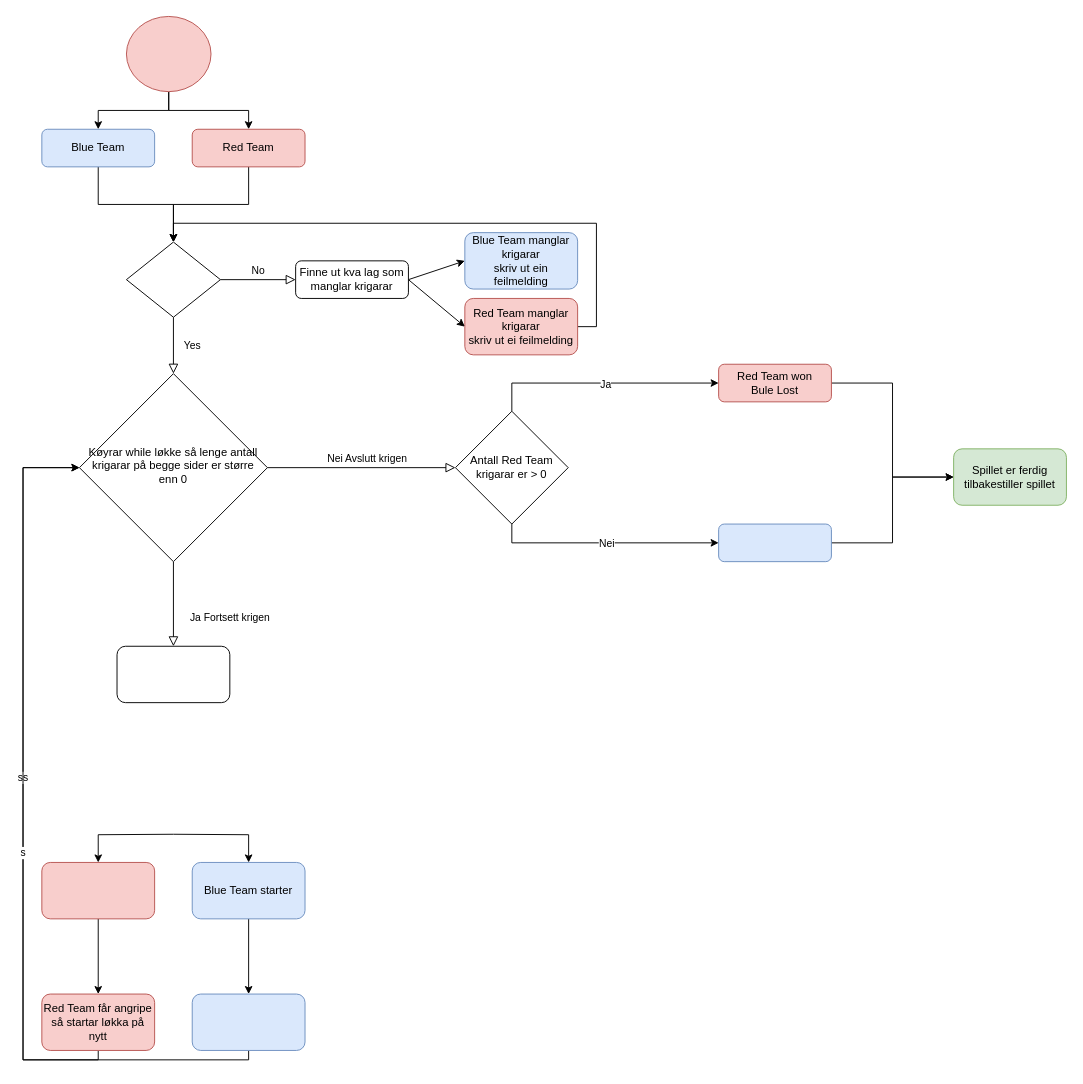
The diagram is 1083 pixels wide and 1084 high, and some of its shapes have lost their labels. Here are the shapes that lost their labels. From the top down, the centre of each, then its label:
the point at 168,54: Start velg Red Team eller Blue Team
the point at 172,279: Lag møtas i slag Sjekker om lagene har krigere
the point at 774,542: Red Team Lost Bule won
the point at 98,890: Red Team starter
the point at 248,1021: Blue Team får angripe så startar løkka på nytt
